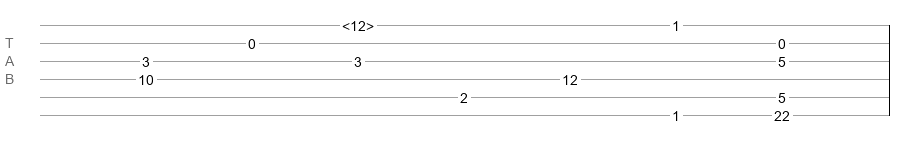0: (248, 36, 256, 46), (778, 36, 786, 46)
1: (672, 108, 680, 118), (672, 18, 680, 28)
10: (138, 72, 154, 82)
12: (562, 72, 578, 82)
2: (460, 90, 468, 100)
22: (774, 108, 790, 118)
3: (142, 54, 150, 64), (354, 54, 362, 64)
5: (778, 90, 786, 100), (778, 54, 786, 64)
harmonic: (342, 18, 374, 28)
